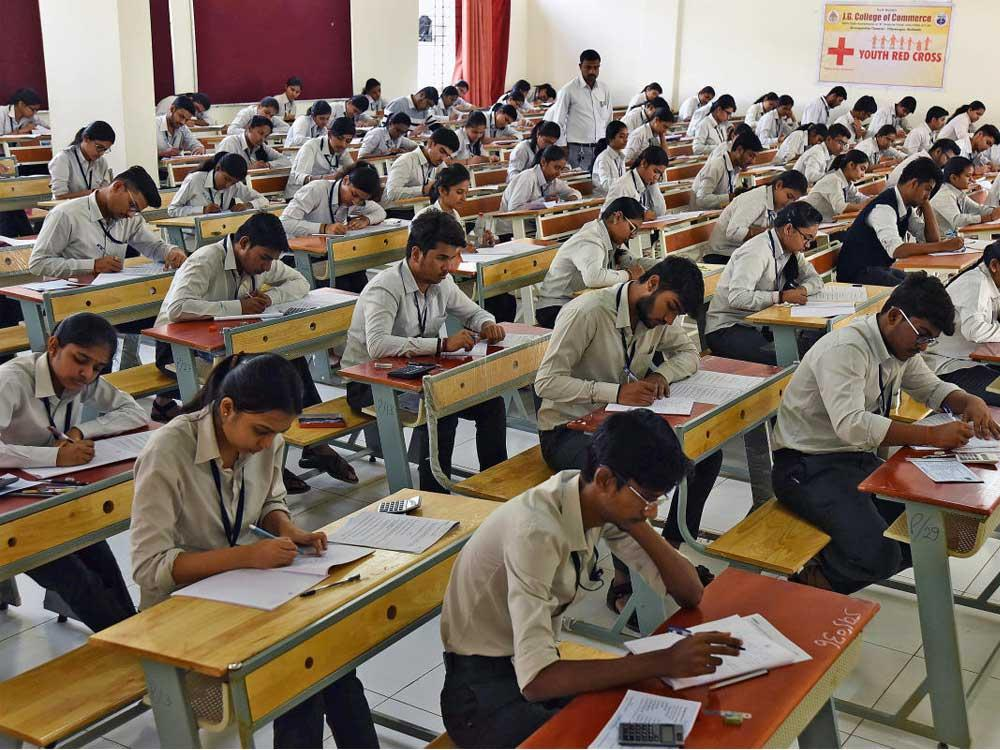invigilator: (560, 43, 615, 173)
student: (498, 401, 855, 688), (135, 328, 467, 614), (784, 278, 998, 490), (552, 246, 782, 415), (2, 288, 184, 479), (341, 212, 546, 365), (17, 158, 193, 291), (170, 199, 352, 326), (728, 198, 875, 315), (402, 169, 539, 254), (285, 159, 406, 235), (577, 201, 702, 269), (162, 143, 276, 215), (34, 123, 135, 204), (282, 124, 384, 187)
